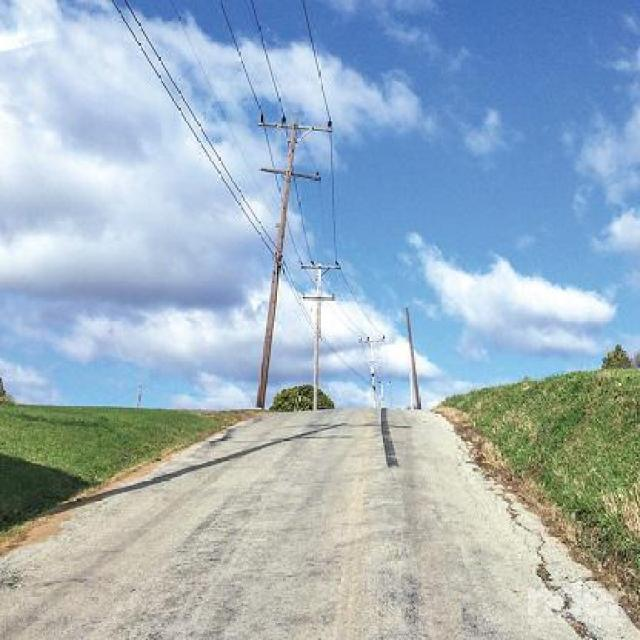pole: (250, 108, 332, 408), (295, 256, 348, 406)
